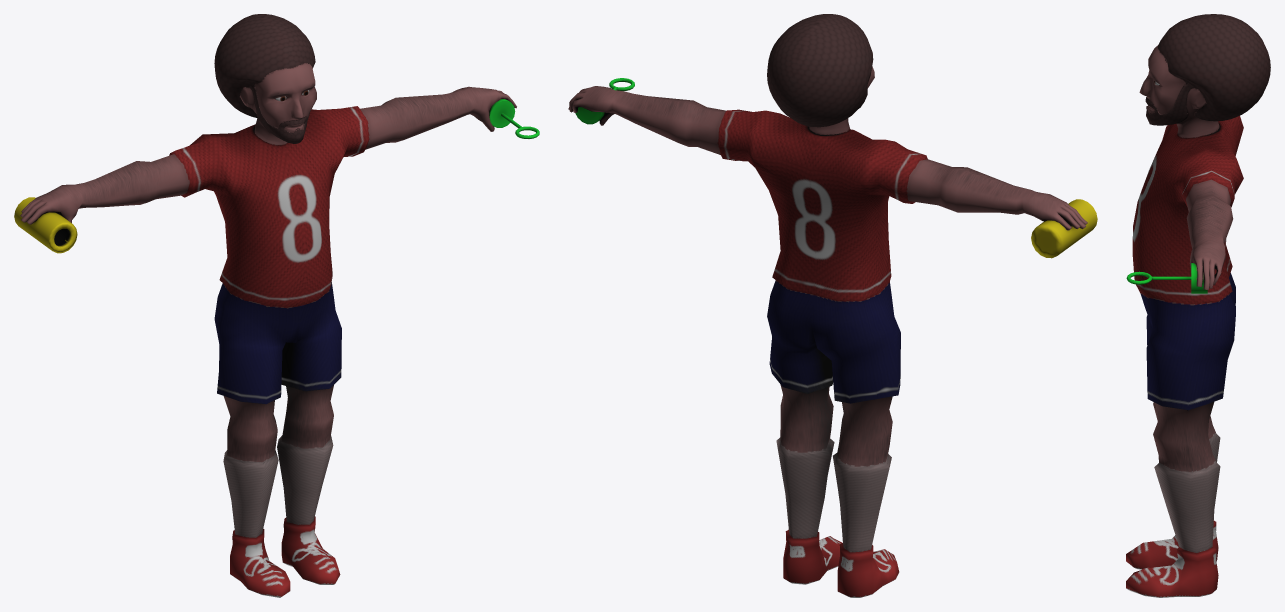
Rendered from AnimLibrary05.glb.
3 renders of one model, left to right at view 1: azimuth 30°, elevation 25°; view 2: azimuth 150°, elevation 25°; view 3: azimuth 270°, elevation 25°, orthographic. The views are drawn at different scales.
Visible parts, largest first — view 1: lorez; view 2: lorez; view 3: lorez.
Boxes of the visible parts, left/top/right/bottom form: lorez: left=14, top=14, right=539, bottom=597; lorez: left=568, top=14, right=1097, bottom=597; lorez: left=1126, top=14, right=1270, bottom=597.
Bounding box in the file's own units: 1.79 × 1.88 × 0.4414.
1 material, 1 textured.
